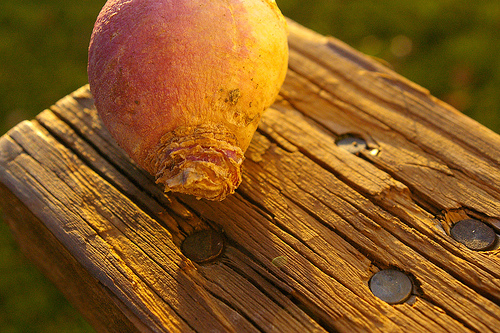turnip: (87, 0, 290, 200)
